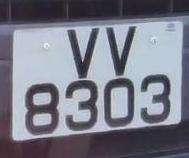0: (98, 72, 142, 132)
3: (58, 76, 103, 136), (137, 68, 175, 130)
8: (19, 73, 64, 142)
V: (101, 20, 141, 77), (65, 22, 102, 80)
